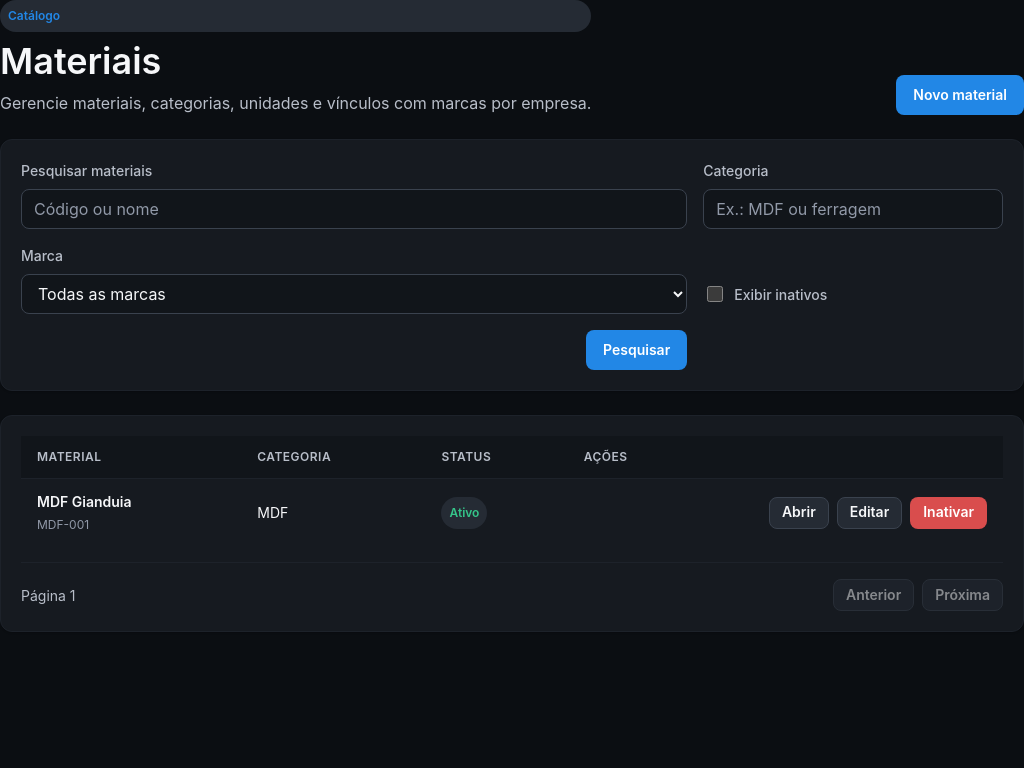
Scenario: MaterialsRoute › atualiza um material
Expected: the button "MDF Gianduia" is shown, [37,491,132,512]
Click the button "Editar" at (869, 513), box [837,497,902,529]
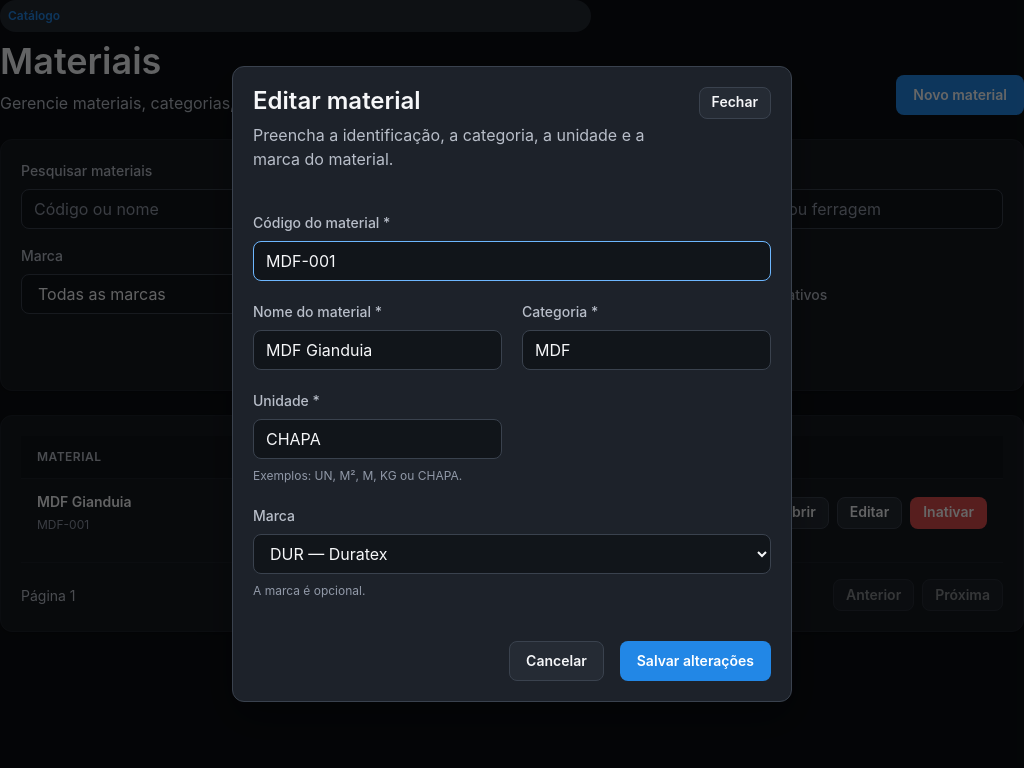
Replace the text in the field labelled "Nome do material *" with "MDF Gianduia Atualizado" at (378, 350), box [253,330,502,370]
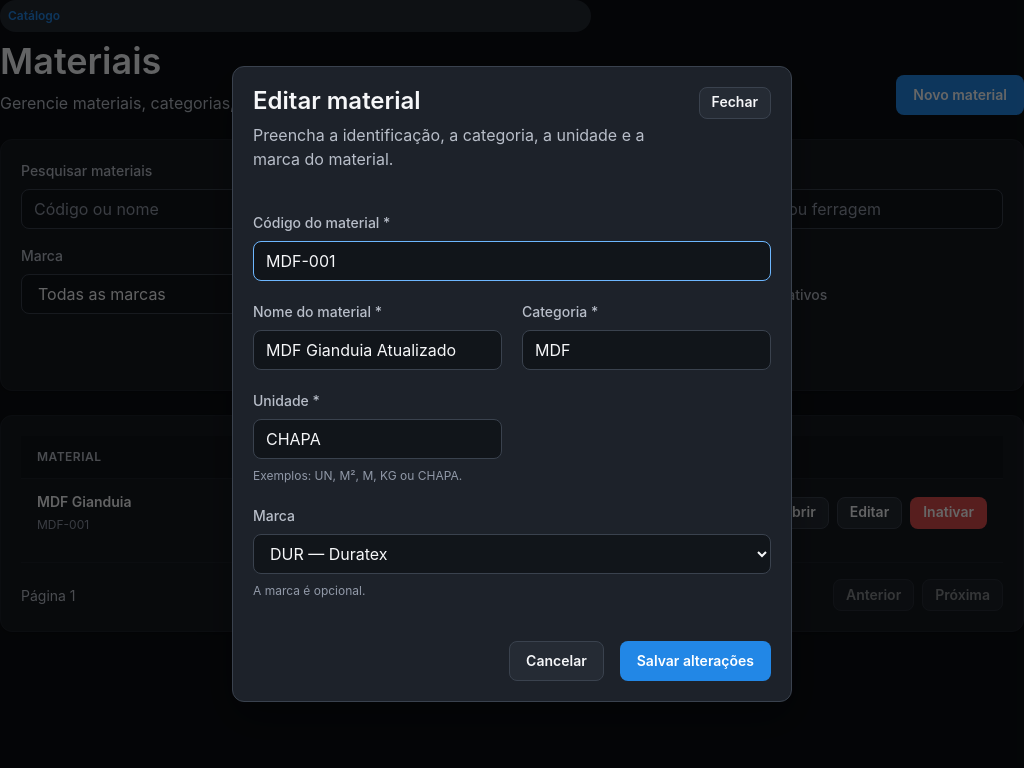
Click the button "Salvar alterações" at (695, 661), box [620,641,771,681]
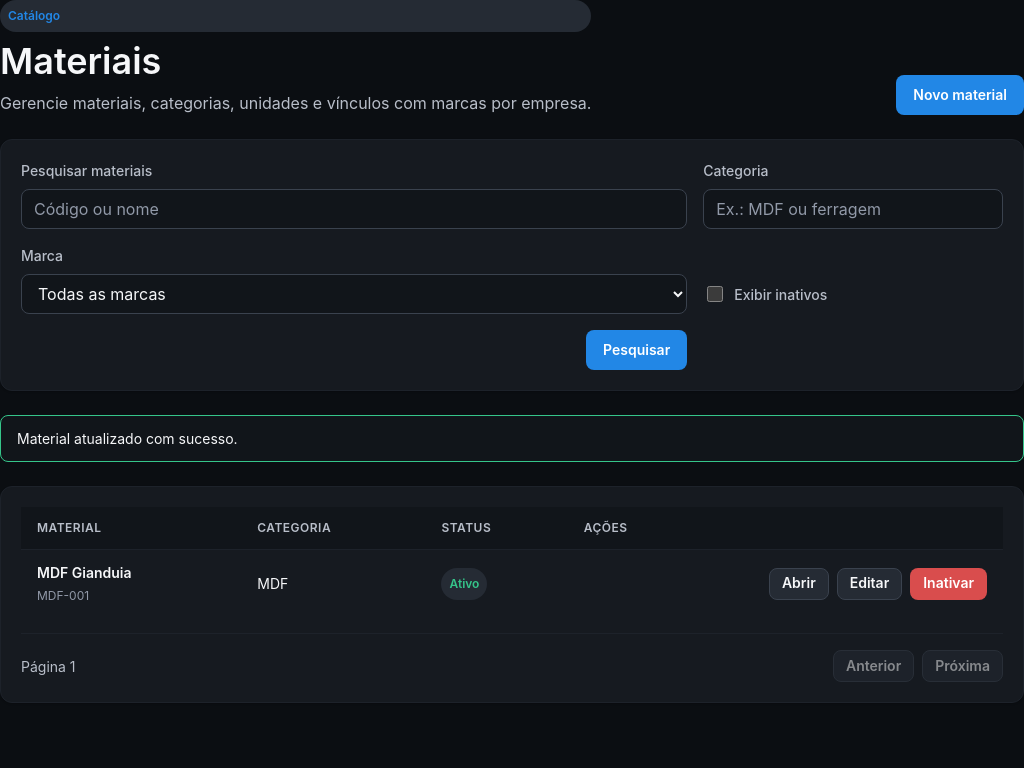
Expected: the text "Material atualizado com sucesso." is shown, [0,415,1023,462]
